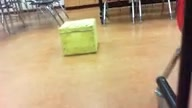cube: (59, 19, 97, 56)
